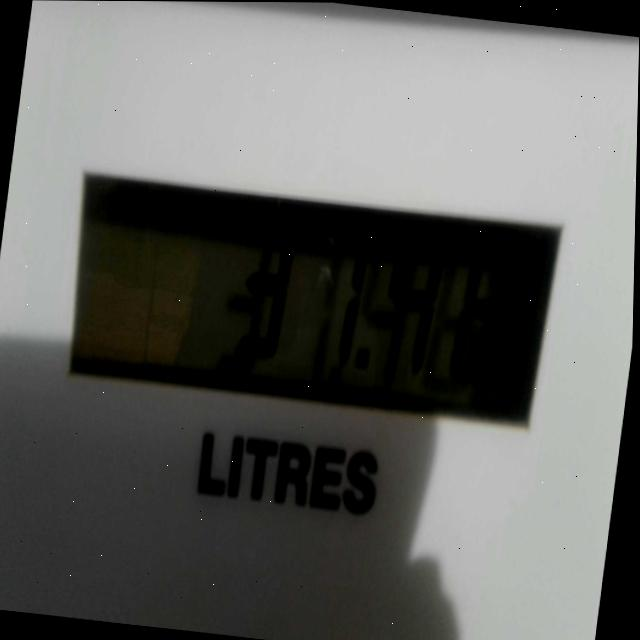.: (348, 337, 385, 387)
3: (224, 197, 306, 371)
4: (375, 204, 456, 385)
6: (447, 216, 539, 407)
7: (303, 203, 377, 371)
